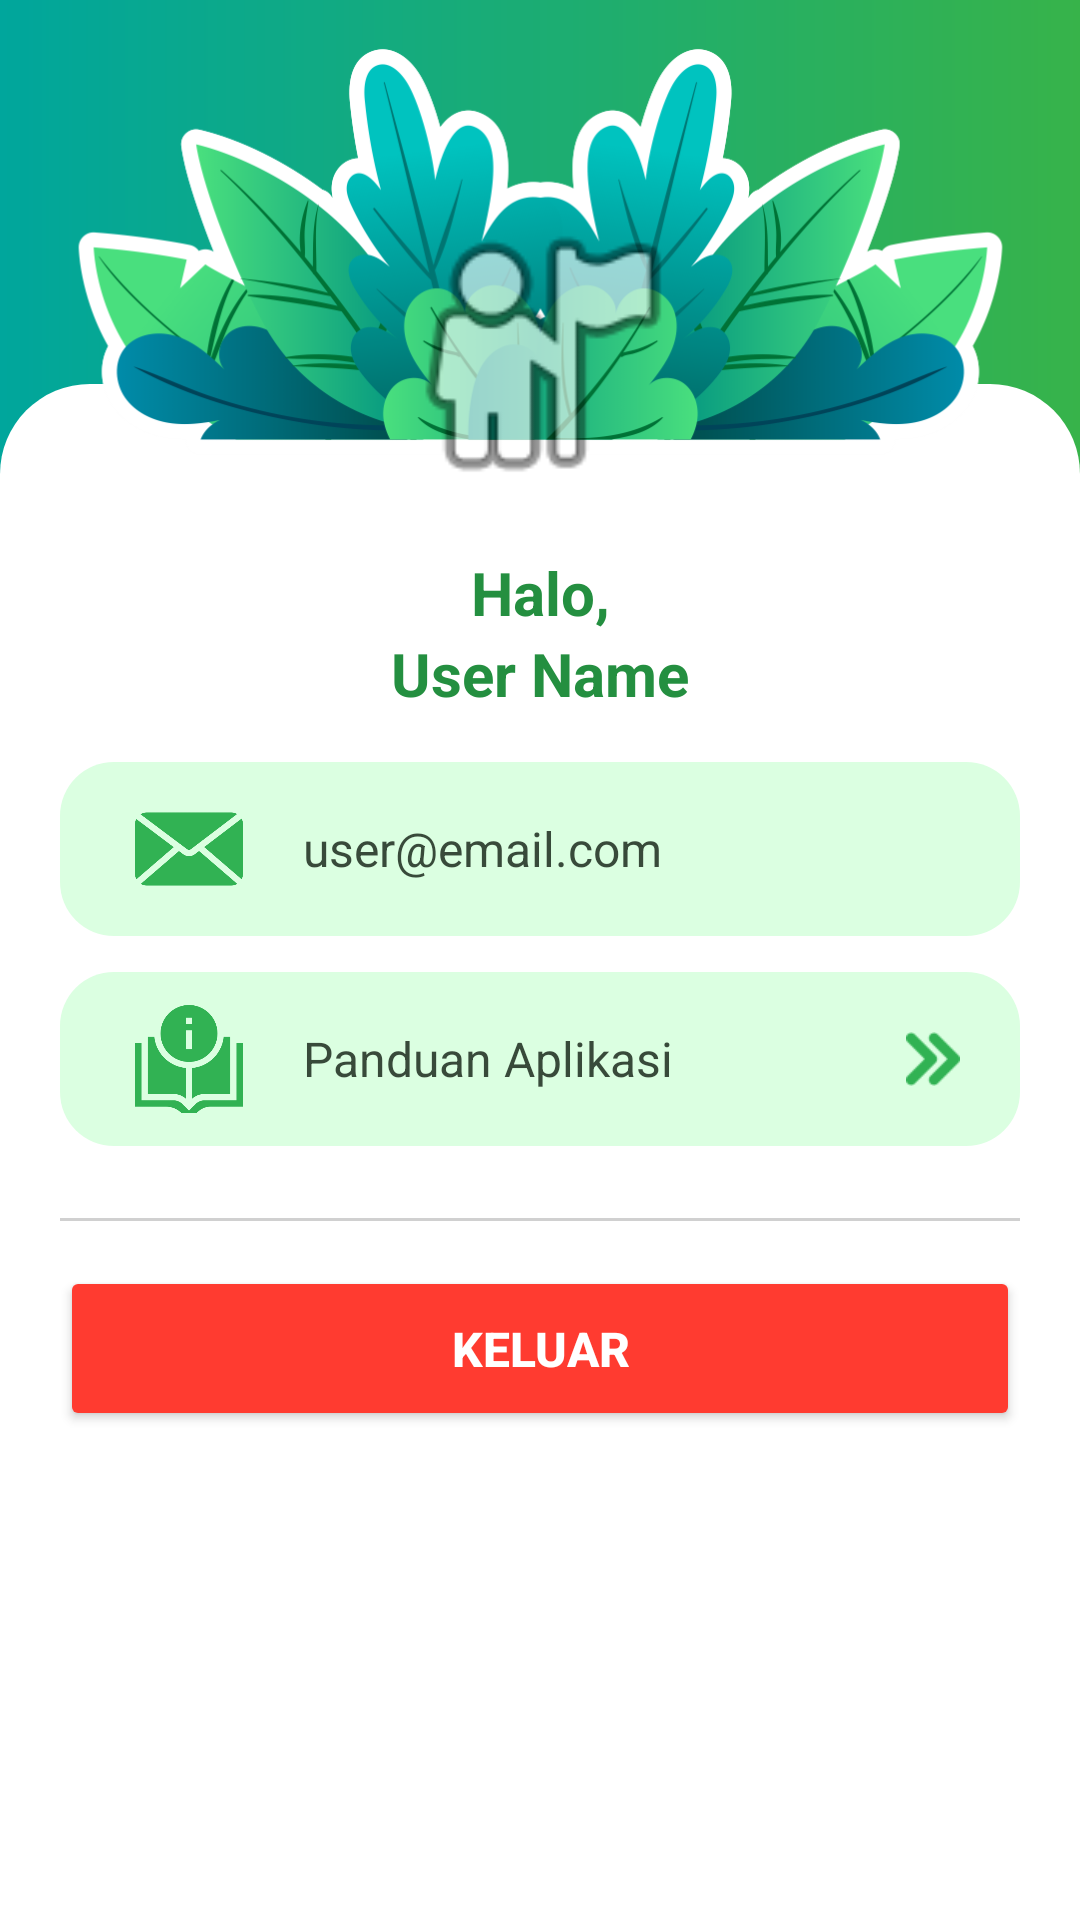

Where icons sit on this 1080px x 1920px app screen, as [x1, y1, x2, y2]:
guide: [135, 1005, 243, 1113]
